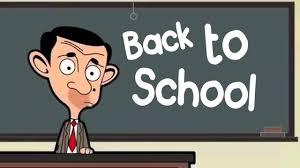mrbean: (27, 25, 120, 155)
